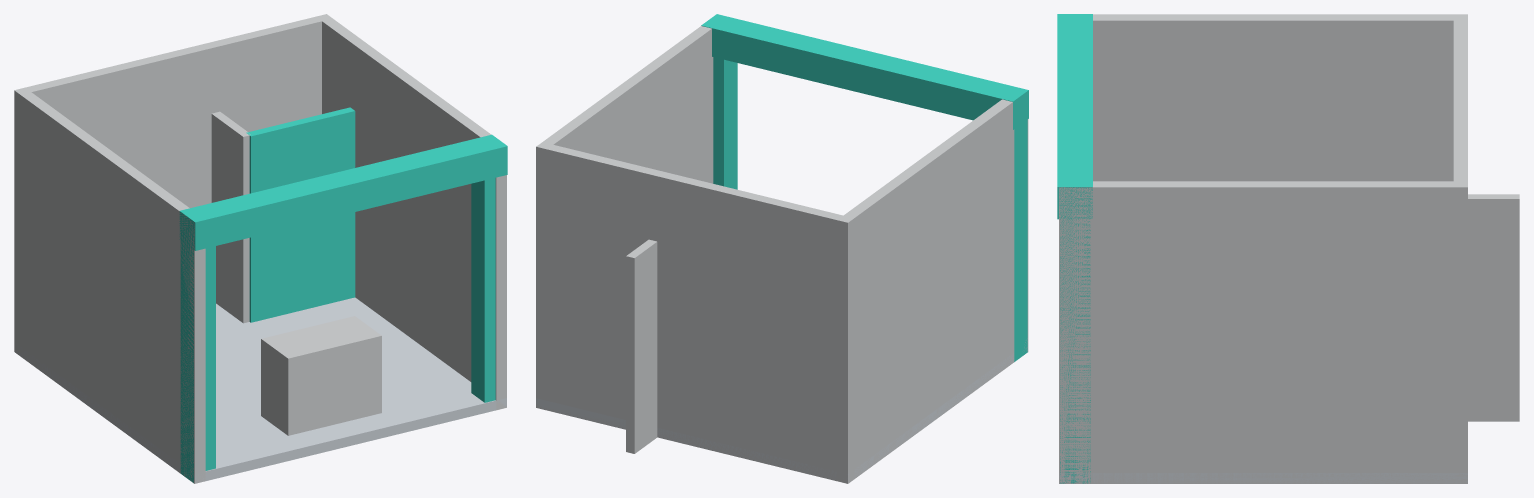
The picture shows the model from 3 angles, left to right: view 1: azimuth 30°, elevation 25°; view 2: azimuth 150°, elevation 25°; view 3: azimuth 270°, elevation 25°; orthographic projection. The views are drawn at different scales.
Parts seen in each view (by area): view 1: Exhibition Booth Concept; view 2: Exhibition Booth Concept; view 3: Exhibition Booth Concept.
Boxes of the visible parts, x1,y1,x2,y2 form: Exhibition Booth Concept: (14,14,507,483); Exhibition Booth Concept: (536,14,1028,483); Exhibition Booth Concept: (1057,14,1519,483).
Bounding box in the file's own units: 4 × 3.2 × 4.52.
